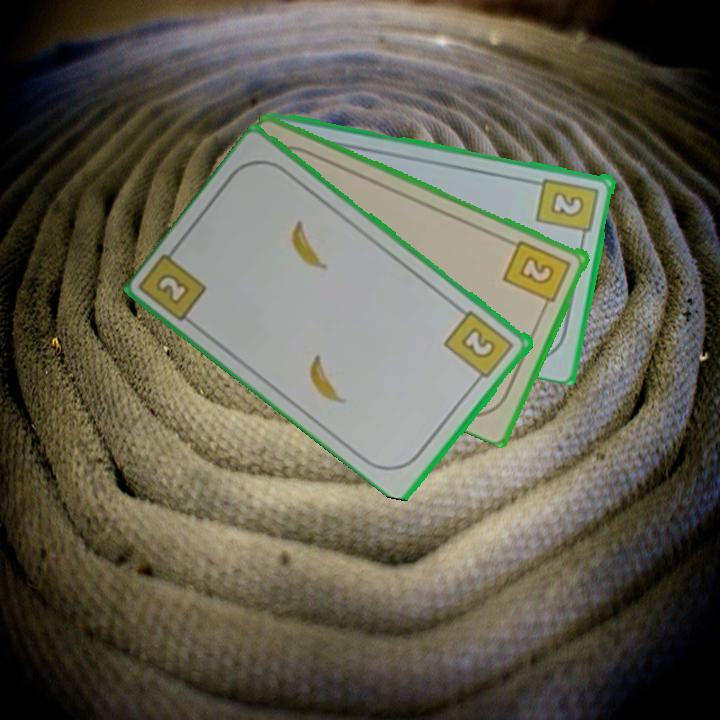2b: (441, 307, 517, 387), (500, 236, 574, 313), (533, 174, 602, 244), (152, 269, 193, 308)
